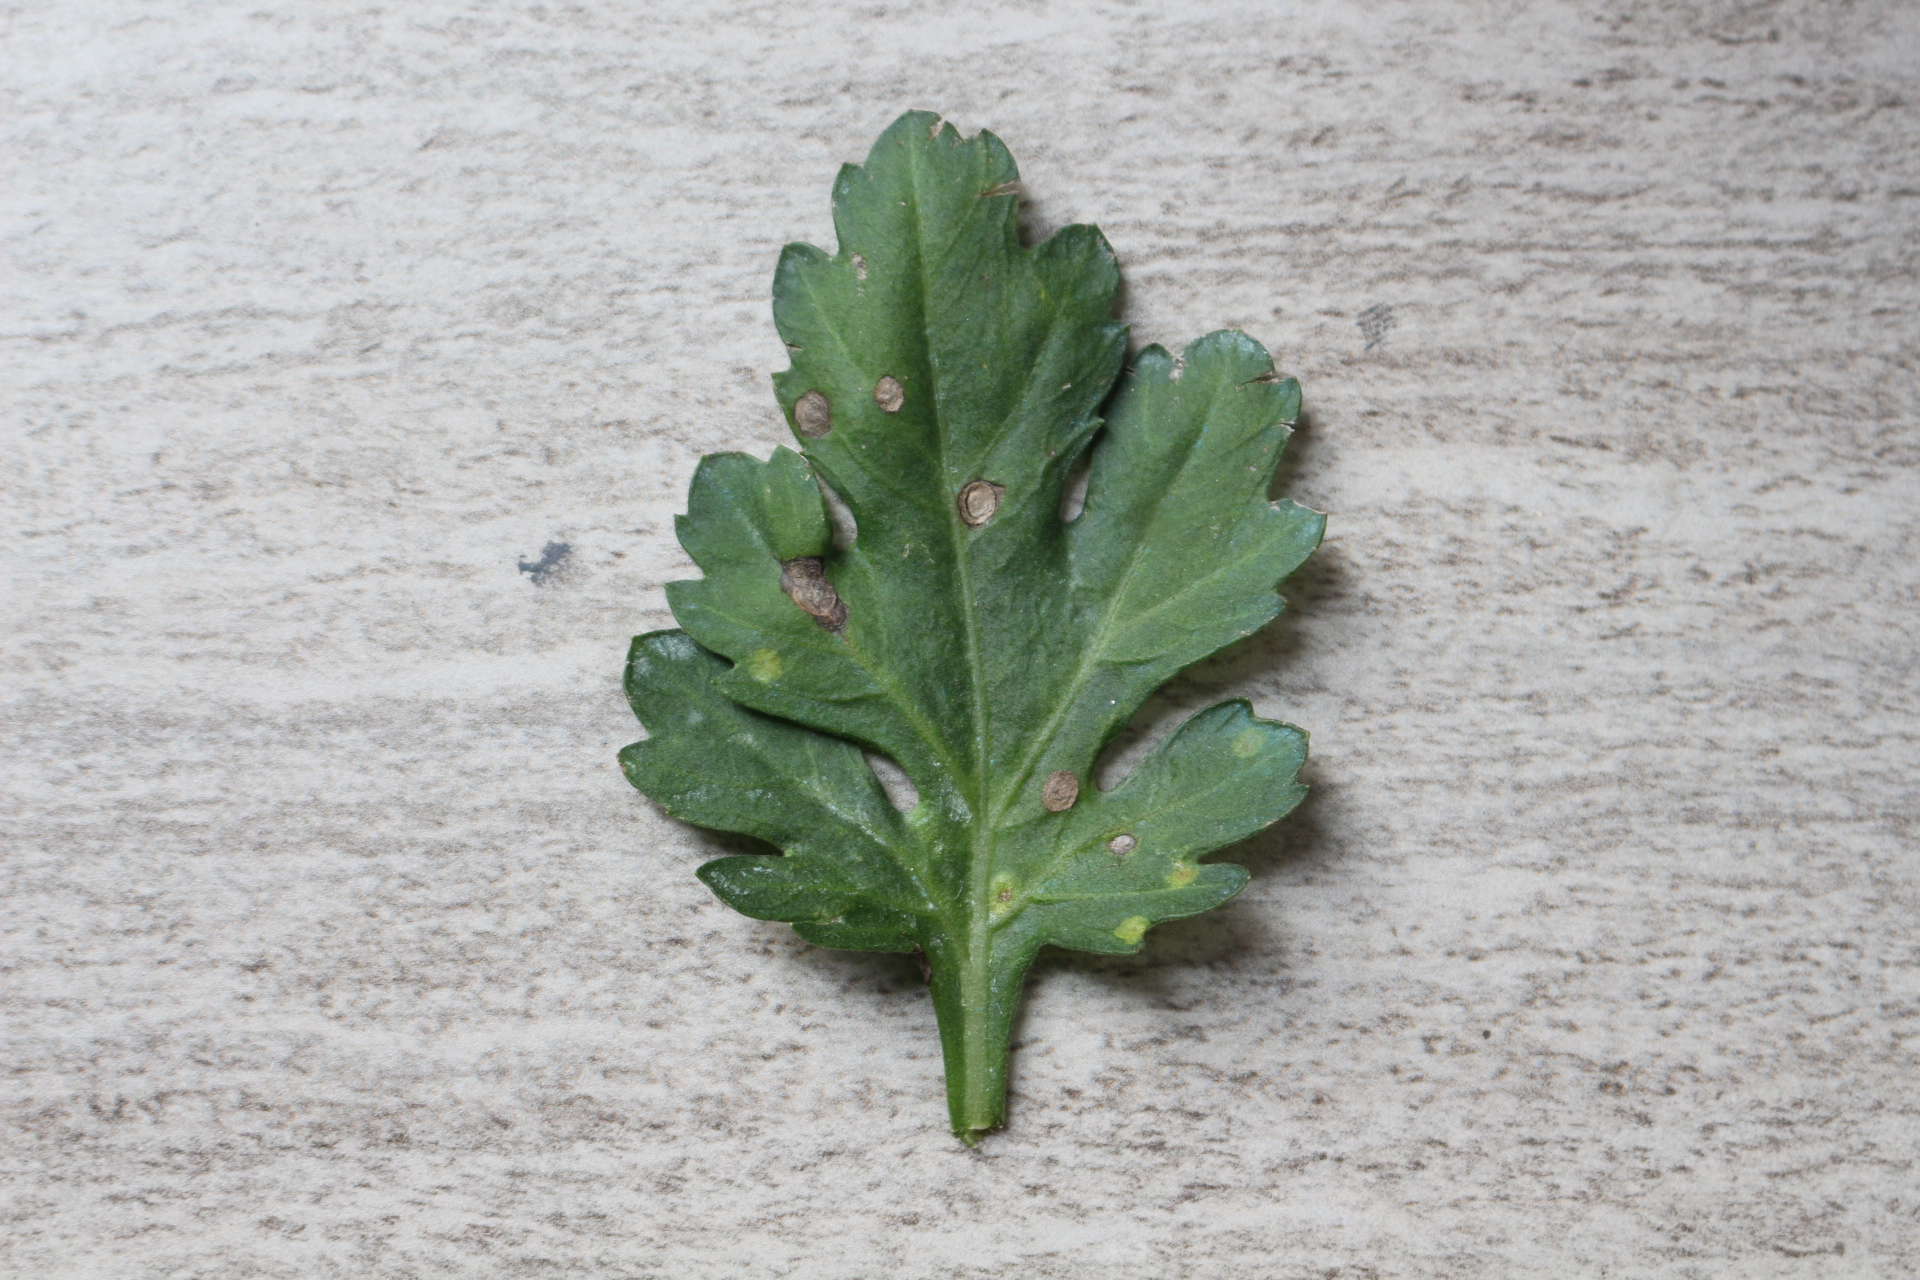namden: (776, 551, 849, 629), (950, 479, 1011, 529), (1037, 769, 1081, 821), (793, 391, 839, 440), (866, 371, 909, 413), (1100, 829, 1146, 860)
namsung: (976, 869, 1026, 920), (746, 646, 793, 689), (1116, 911, 1154, 950), (1166, 854, 1203, 894), (1230, 724, 1266, 759)
